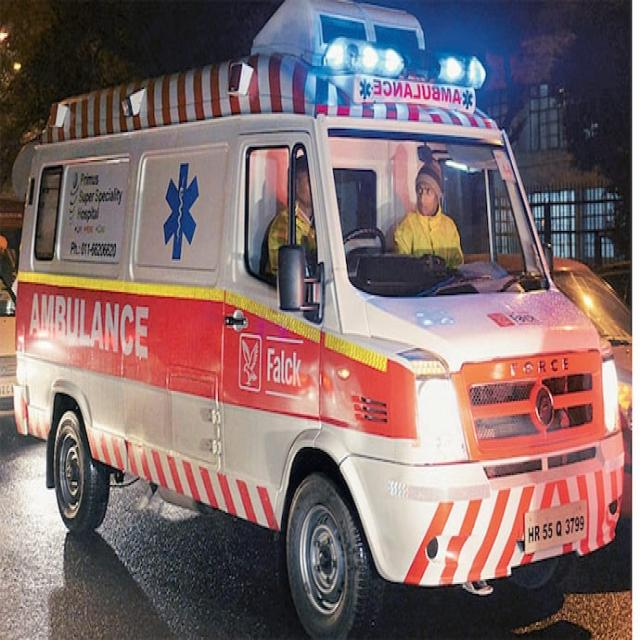emergency lights: (322, 33, 490, 97)
